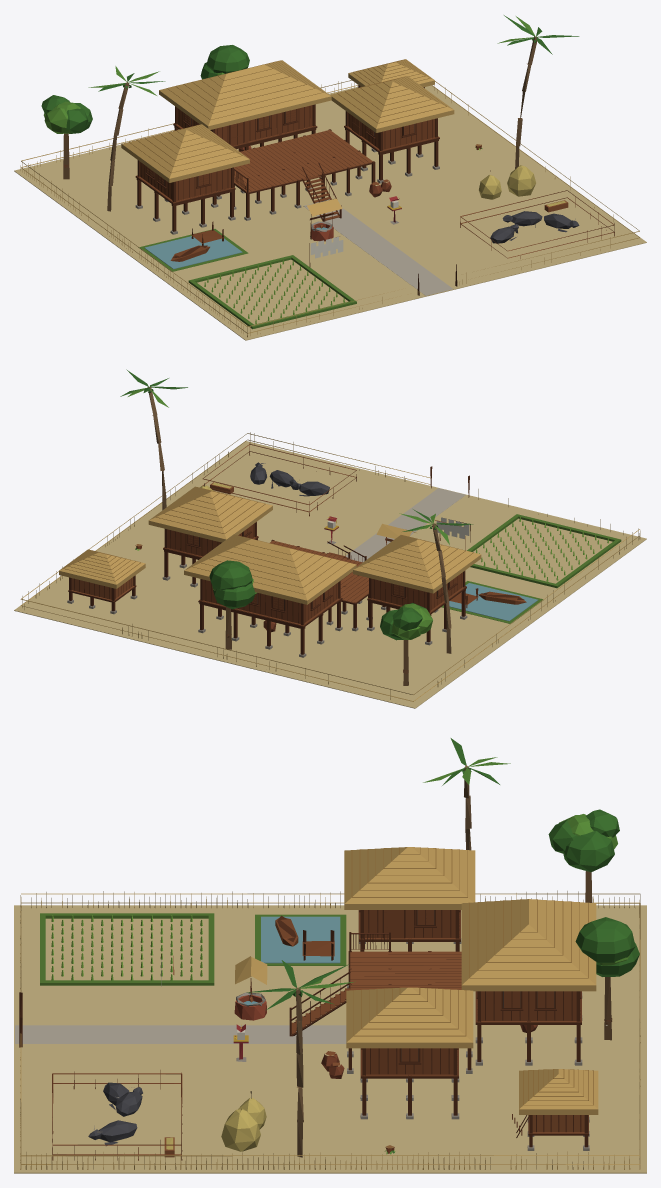
The model's file is home_5.glb.
The picture shows the model from 3 angles, top to bottom: view 1: azimuth 30°, elevation 25°; view 2: azimuth 150°, elevation 25°; view 3: azimuth 270°, elevation 25°; orthographic projection. The views are drawn at different scales.
Parts seen in each view (by area): view 1: body; view 2: body; view 3: body.
Boxes of the visible parts, x1=… form: body: x1=14, y1=15, x2=646, y2=340; body: x1=14, y1=369, x2=646, y2=708; body: x1=14, y1=738, x2=646, y2=1173.
Size of the model in its own units: 34.11 by 11.2 by 31.9.
